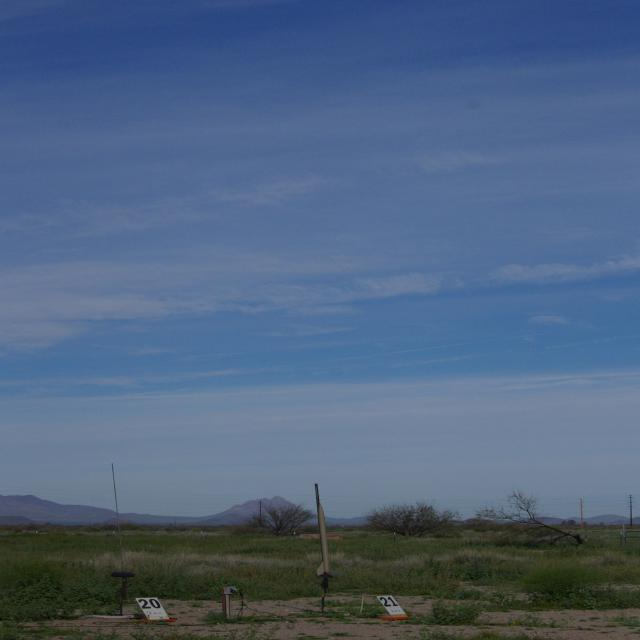Rocket: (314, 503, 337, 576)
